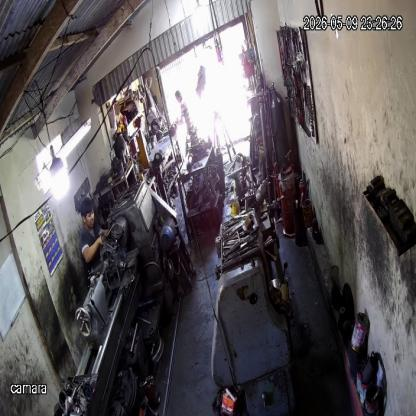sin_lentes: (86, 210, 94, 220)
